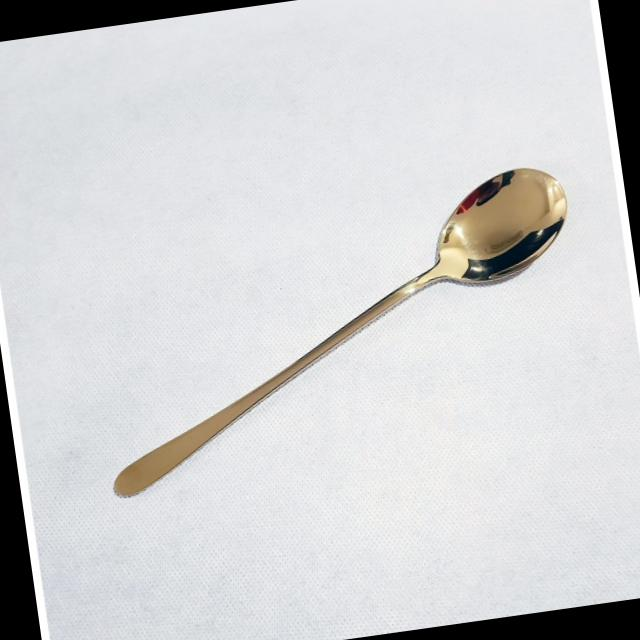spoon: (56, 145, 608, 552)
